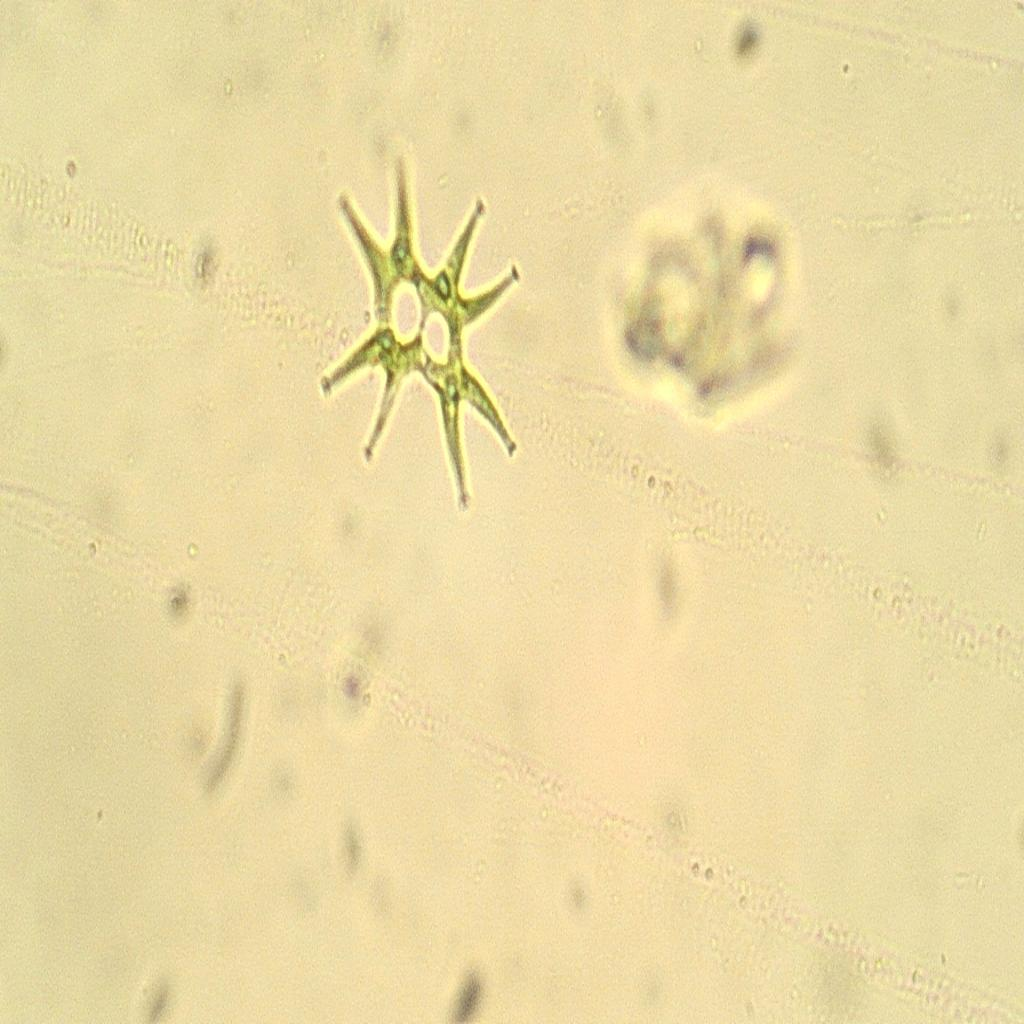Pediastrum_75FO: (305, 140, 537, 533)
